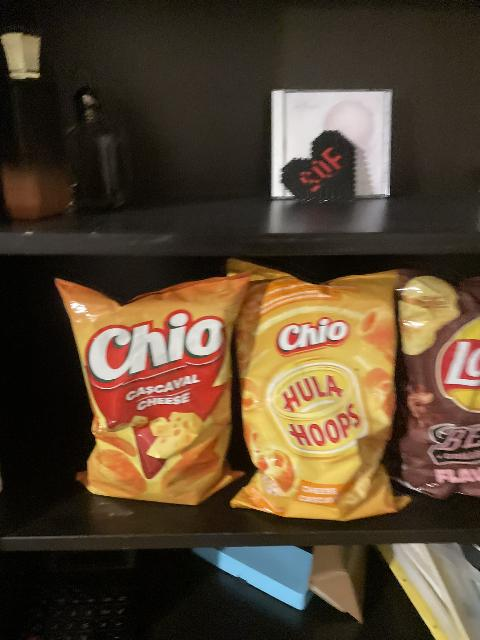Chio Cascaval 125g: (53, 274, 254, 507)
Chio Hula Hoops Cheese 70g: (220, 259, 411, 523)
Lays Beef Grilled Ribs 125g: (390, 271, 480, 498)
